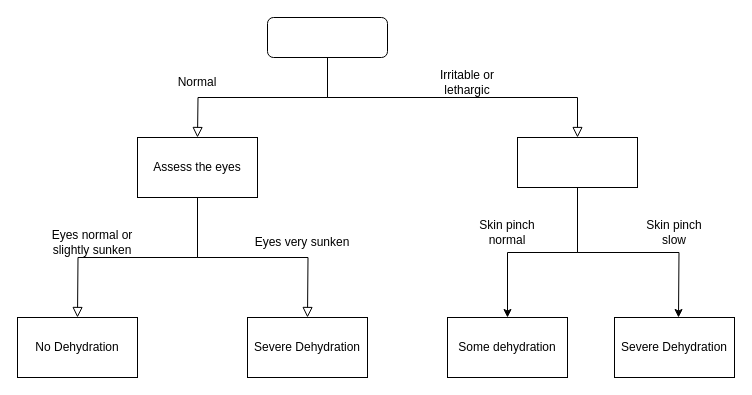
Image size: 752x395. Some labels were removed from this diagram. The shapes that lost their labels are listed below. From the top down, each one's box as (x1, y1, x2, y2) in pixels, then its label:
(266, 16, 388, 58): Assess Patients Appearance
(516, 136, 638, 188): Assess skin pinch
